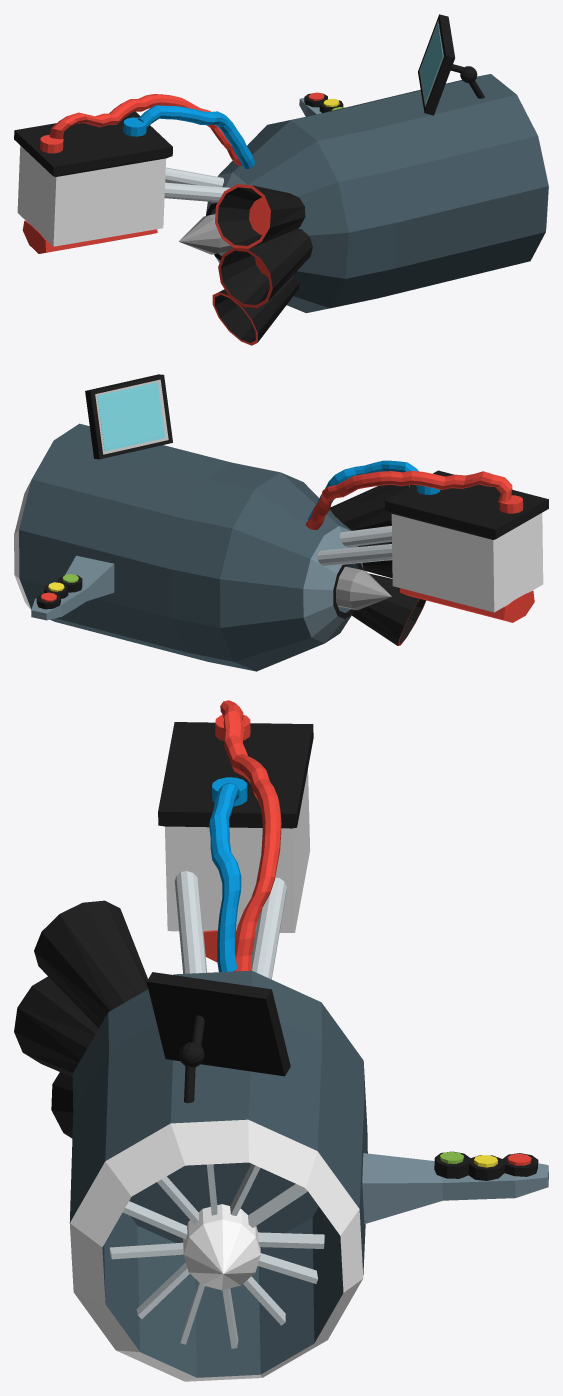
File: concept_ult_models.fbx
The picture shows the model from 3 angles, top to bottom: view 1: azimuth 30°, elevation 25°; view 2: azimuth 150°, elevation 25°; view 3: azimuth 270°, elevation 25°; orthographic projection. The views are drawn at different scales.
Parts seen in each view (by area): view 1: group_1859657987; view 2: group_1859657987; view 3: group_1859657987.
Boxes of the visible parts, left/top/right/bottom form: group_1859657987: left=14, top=14, right=548, bottom=345; group_1859657987: left=14, top=374, right=548, bottom=671; group_1859657987: left=14, top=700, right=548, bottom=1381.
Bounding box in the file's own units: 163 × 78.04 × 103.
